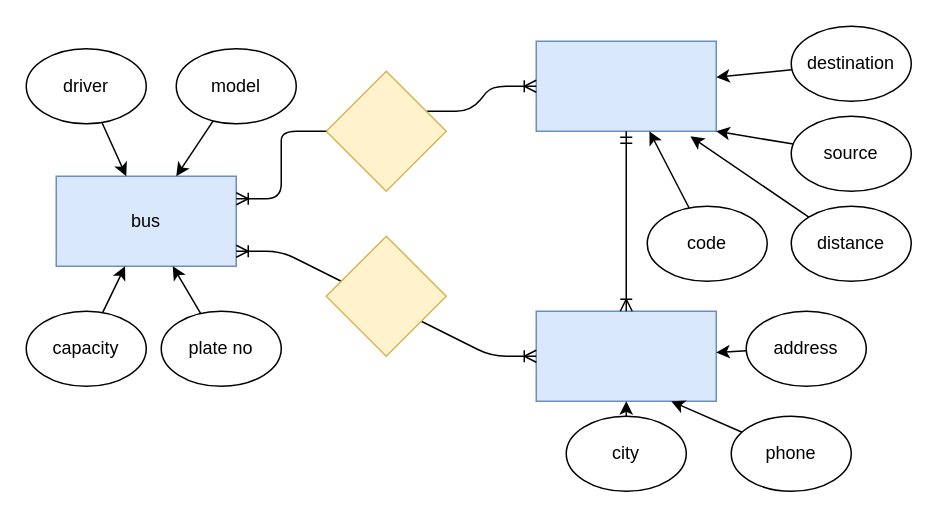
The diagram is 938 pixels wide and 518 high, and some of its shapes have lost their labels. The shapes that lost their labels are listed below. From the top down, each one's box as (x1, y1, x2, y2) in pixels, then its label:
(535, 40, 716, 131): route
(325, 70, 446, 191): follows
(325, 235, 446, 356): stops at
(535, 310, 716, 401): station
